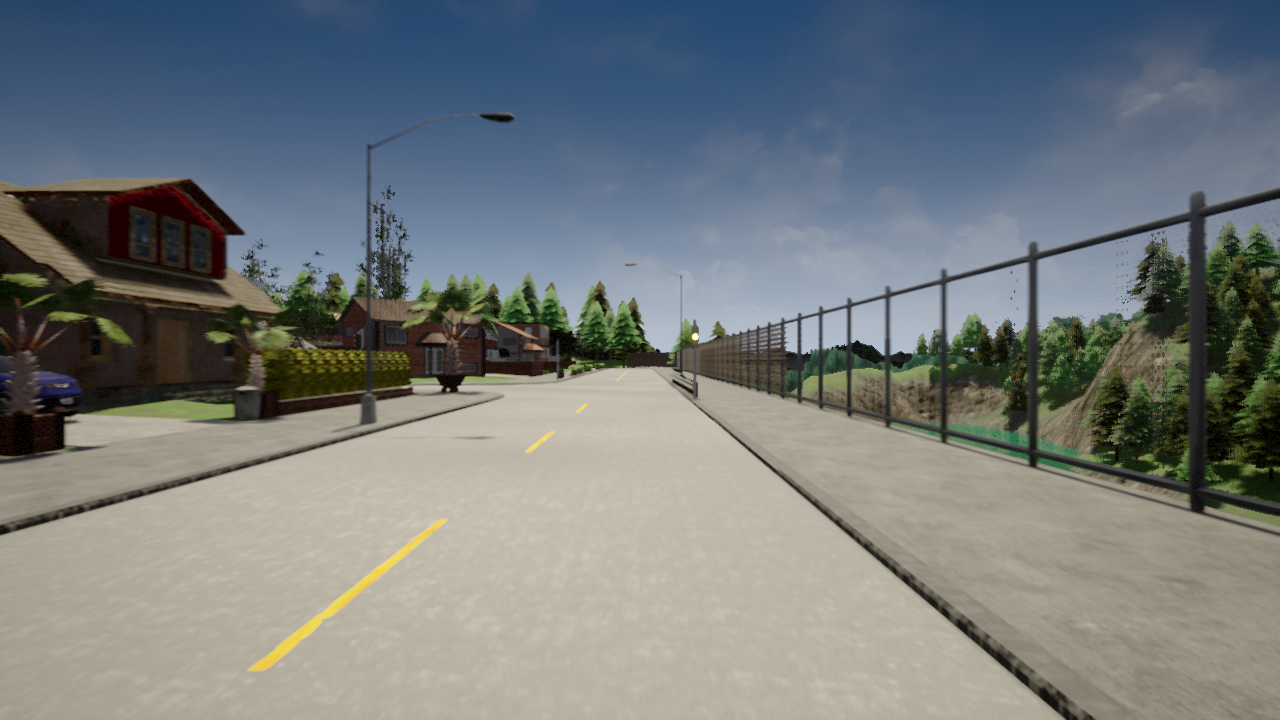yellow: (691, 325, 699, 349)
